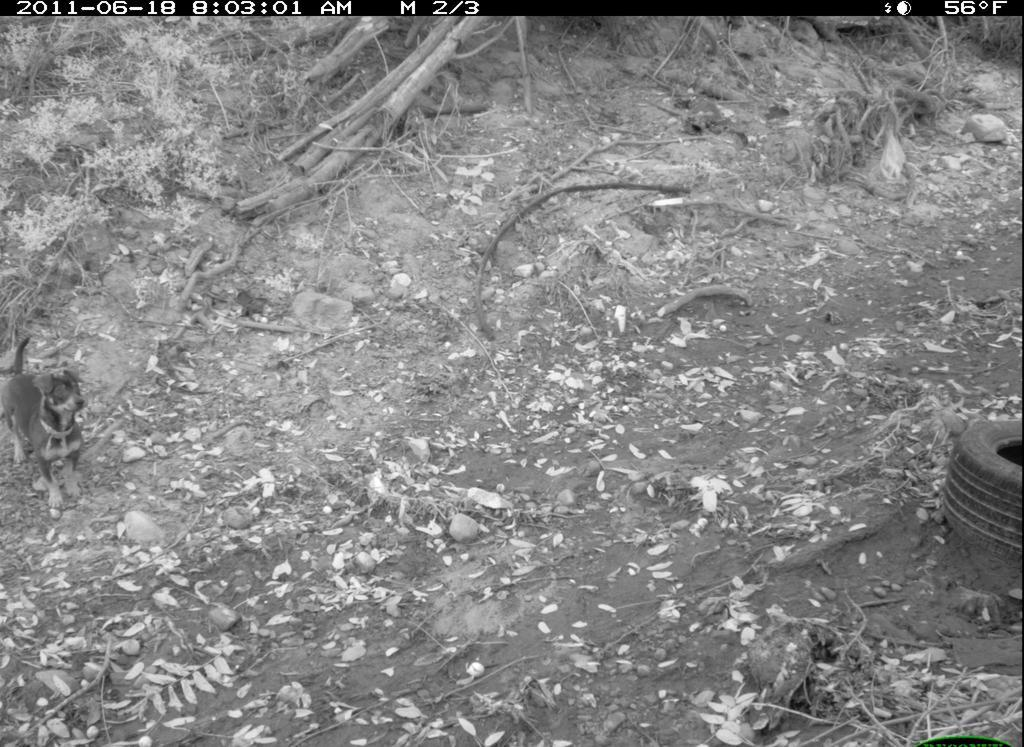dog: (1, 329, 94, 515)
